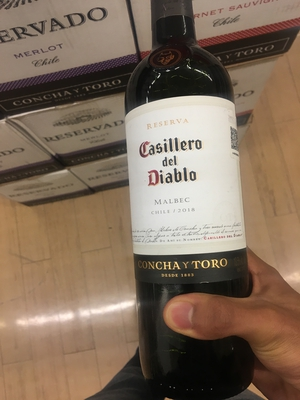casillero del diablo malbec: (114, 14, 264, 397)
